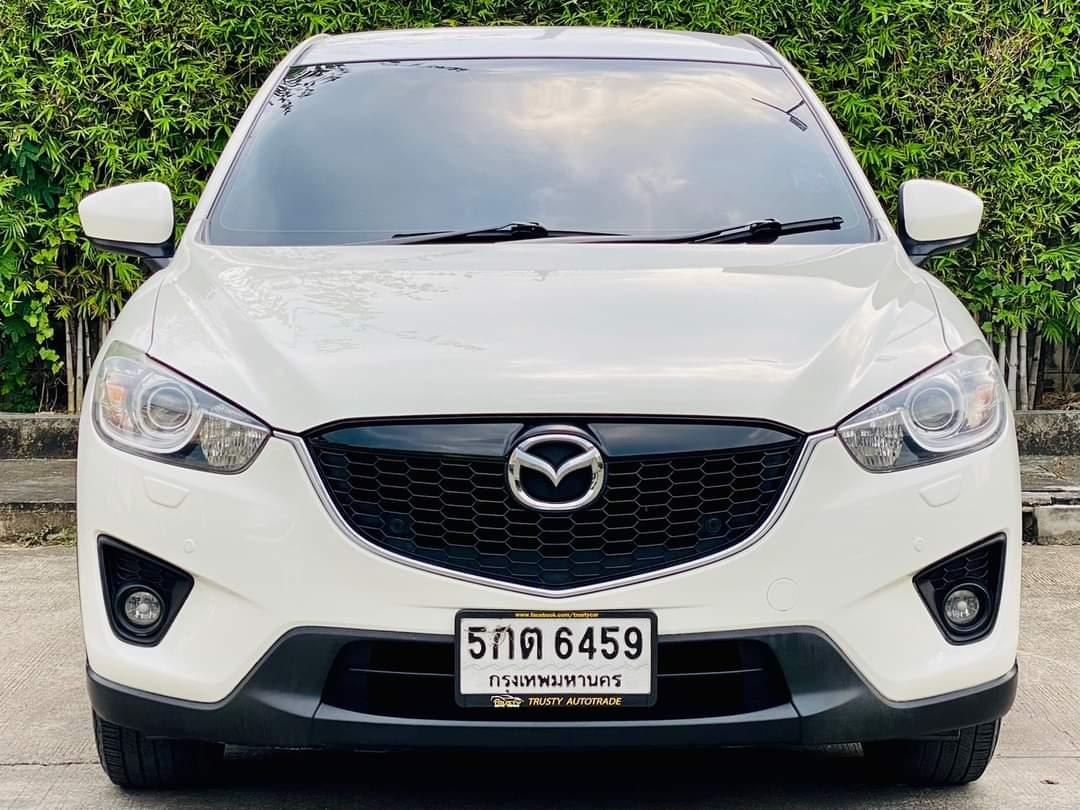license-plate: (455, 607, 658, 714)
